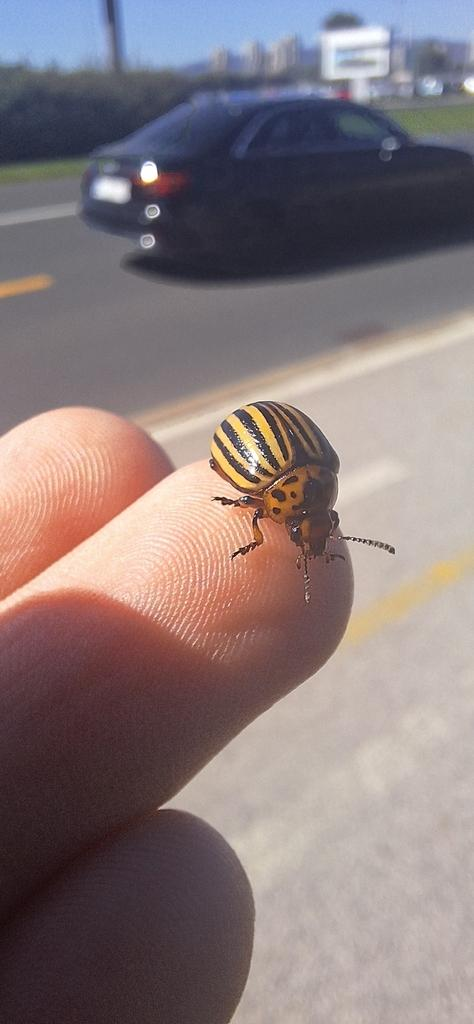potato_beetle: (181, 358, 418, 645)
